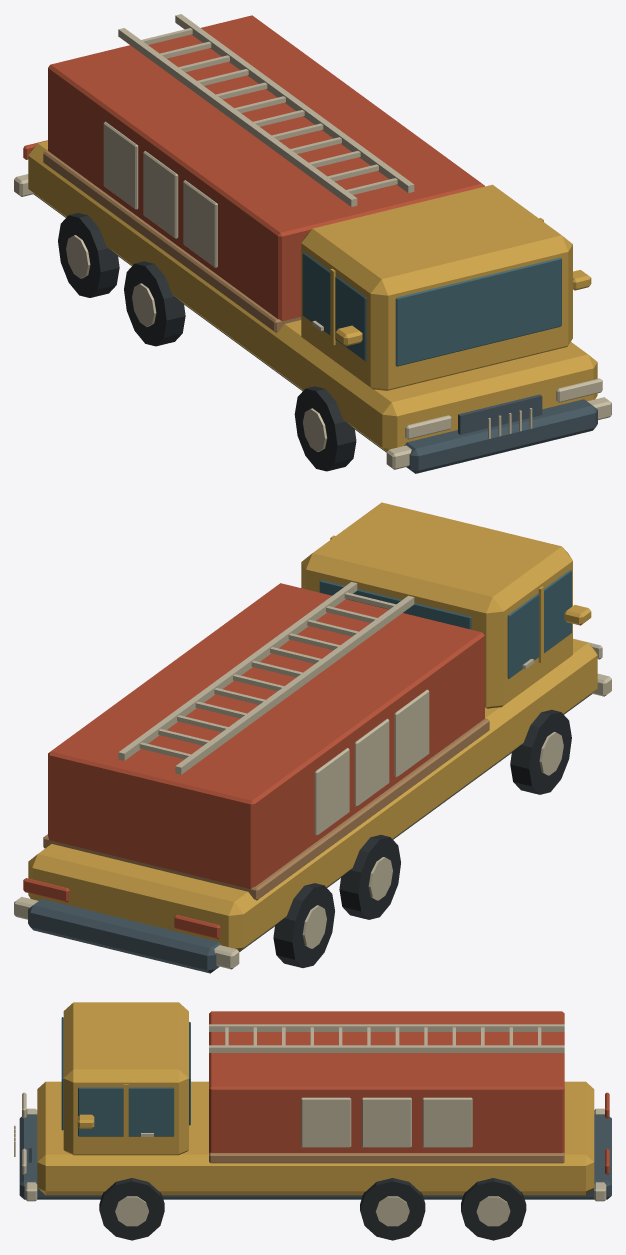
The model's file is vehicle_fire.glb.
3 views of the same model, one above another, from view 1: azimuth 30°, elevation 25°; view 2: azimuth 150°, elevation 25°; view 3: azimuth 270°, elevation 25° (orthographic). The views are drawn at different scales.
Visible parts, largest first — view 1: vehicle_fire; view 2: vehicle_fire; view 3: vehicle_fire.
Part boxes in pixels (x1,y1,x2,y2): vehicle_fire: (14, 14, 611, 473); vehicle_fire: (14, 502, 611, 973); vehicle_fire: (14, 1002, 611, 1240).
Bounding box in the file's own units: 2.87 × 2.34 × 7.87.
